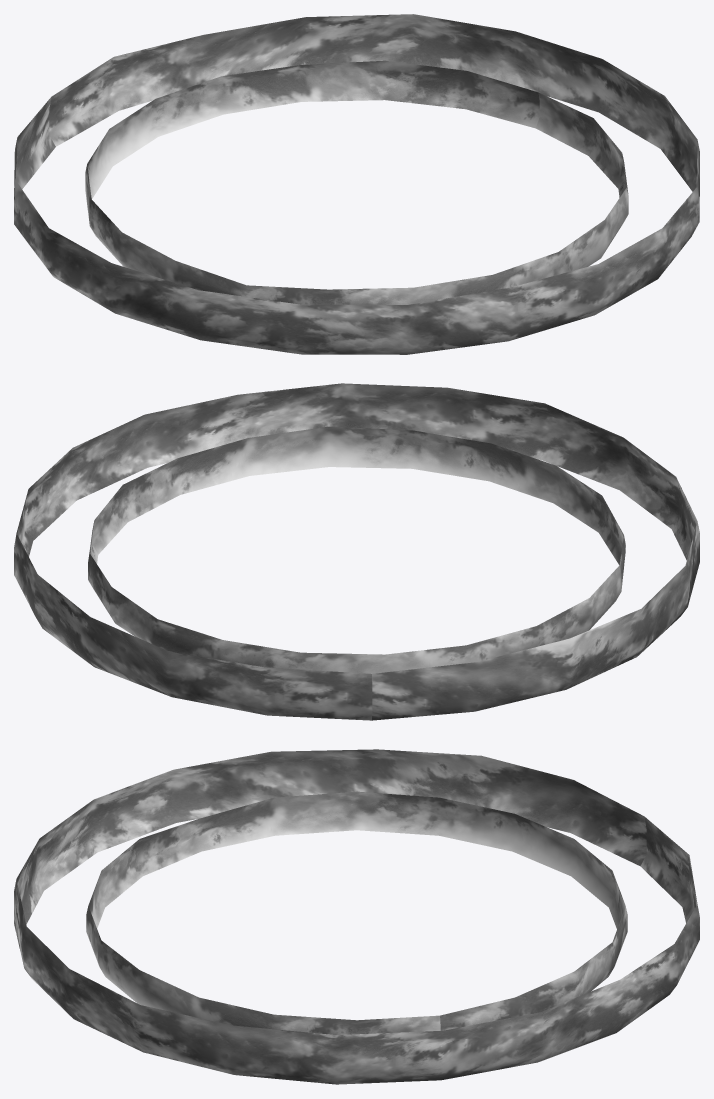
Rendered from pir_m_efx_env_ringOfFog.fbx.
3 views of the same model, one above another, from view 1: azimuth 30°, elevation 25°; view 2: azimuth 150°, elevation 25°; view 3: azimuth 270°, elevation 25° (orthographic).
Parts seen in each view (by area): view 1: fog_layer2, fog_layer1; view 2: fog_layer2, fog_layer1; view 3: fog_layer2, fog_layer1.
Boxes of the visible parts, bbox=[...] form: fog_layer2: bbox=[14, 14, 699, 354]; fog_layer1: bbox=[85, 60, 628, 304]; fog_layer2: bbox=[14, 383, 699, 720]; fog_layer1: bbox=[88, 426, 625, 673]; fog_layer2: bbox=[14, 749, 699, 1084]; fog_layer1: bbox=[86, 791, 627, 1034].
Size of the model in its own units: 33.26 by 2.96 by 33.26.
Materials: 1 (1 with a texture image).
